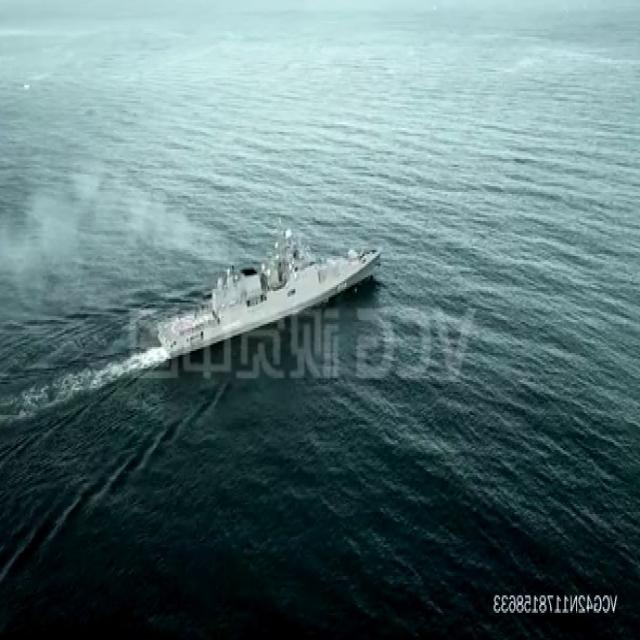navalvessels: (158, 228, 382, 354)
